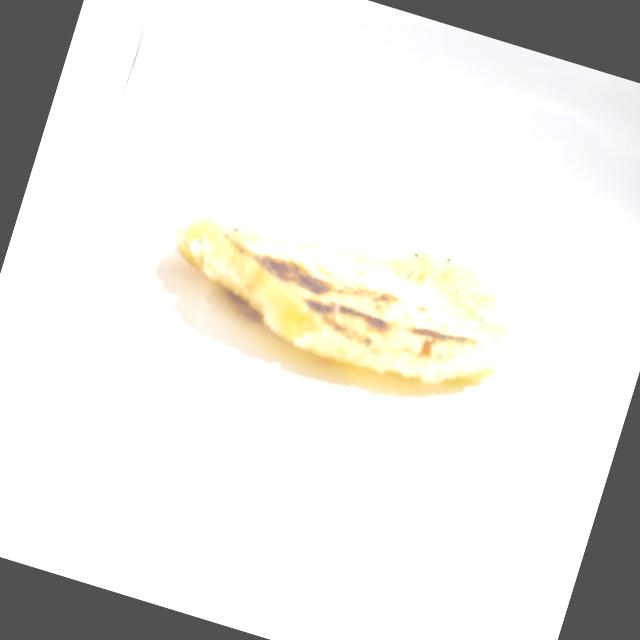Mbeju: (130, 150, 542, 427)
